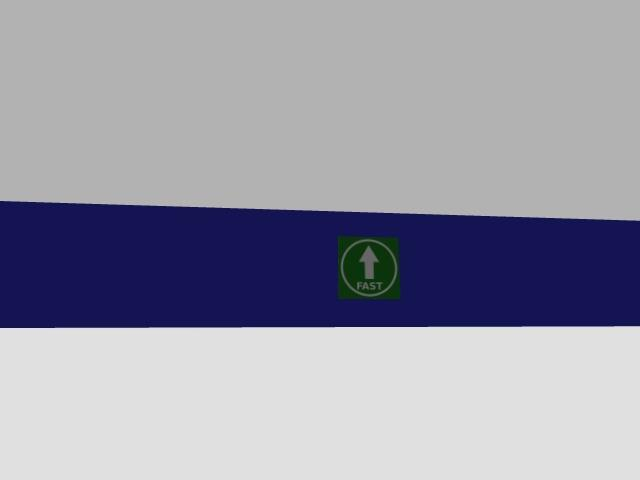fast: (338, 236, 399, 298)
